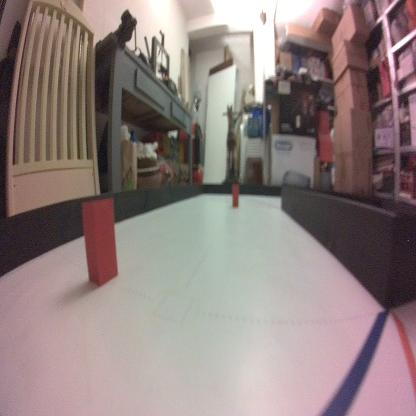red: (81, 197, 119, 285), (232, 185, 238, 207)
